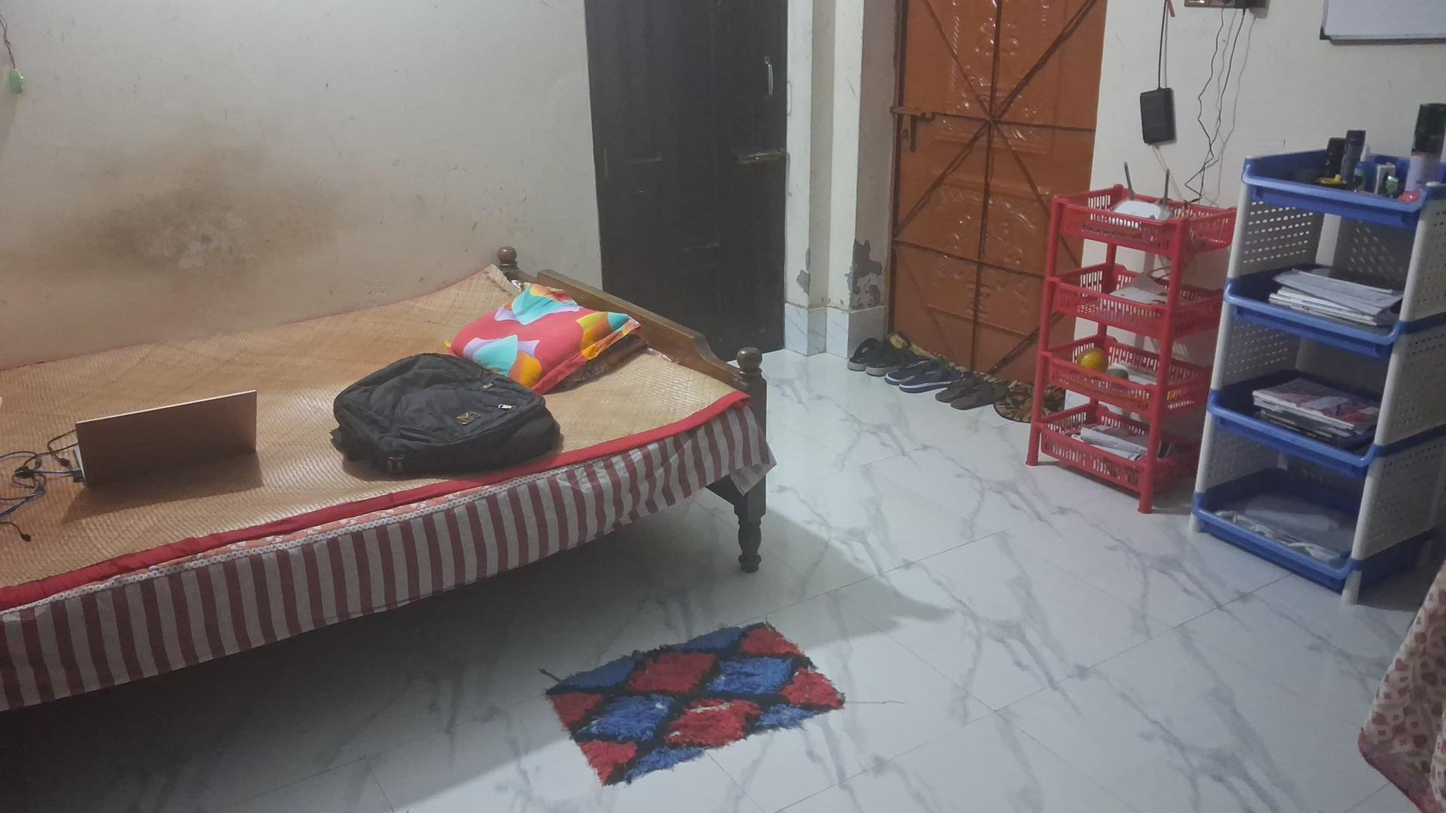Bag: (318, 352, 571, 477)
Door: (569, 5, 805, 387), (884, 0, 1105, 380)
Floor Mat: (525, 613, 859, 790)
Footwear: (883, 350, 962, 394), (939, 375, 1004, 412), (845, 336, 906, 372)
Laptop: (71, 390, 267, 488)
Pillow: (428, 279, 654, 393)
Rack: (1191, 111, 1446, 623), (1031, 167, 1227, 541)
